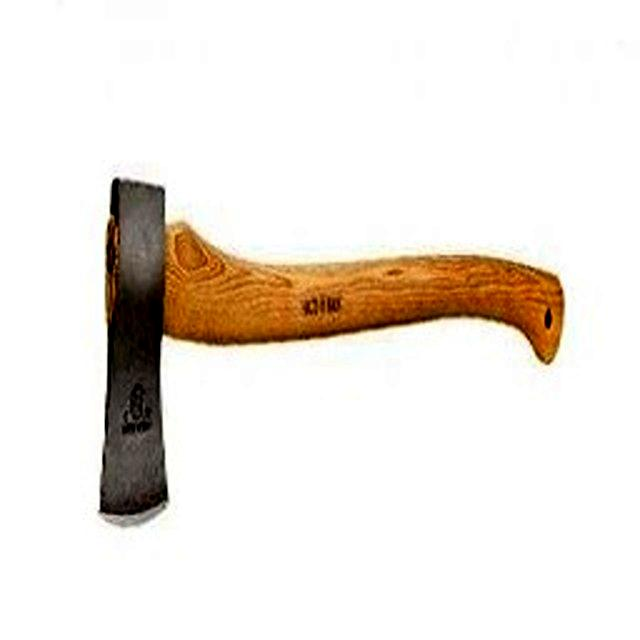ax: (89, 164, 581, 536)
